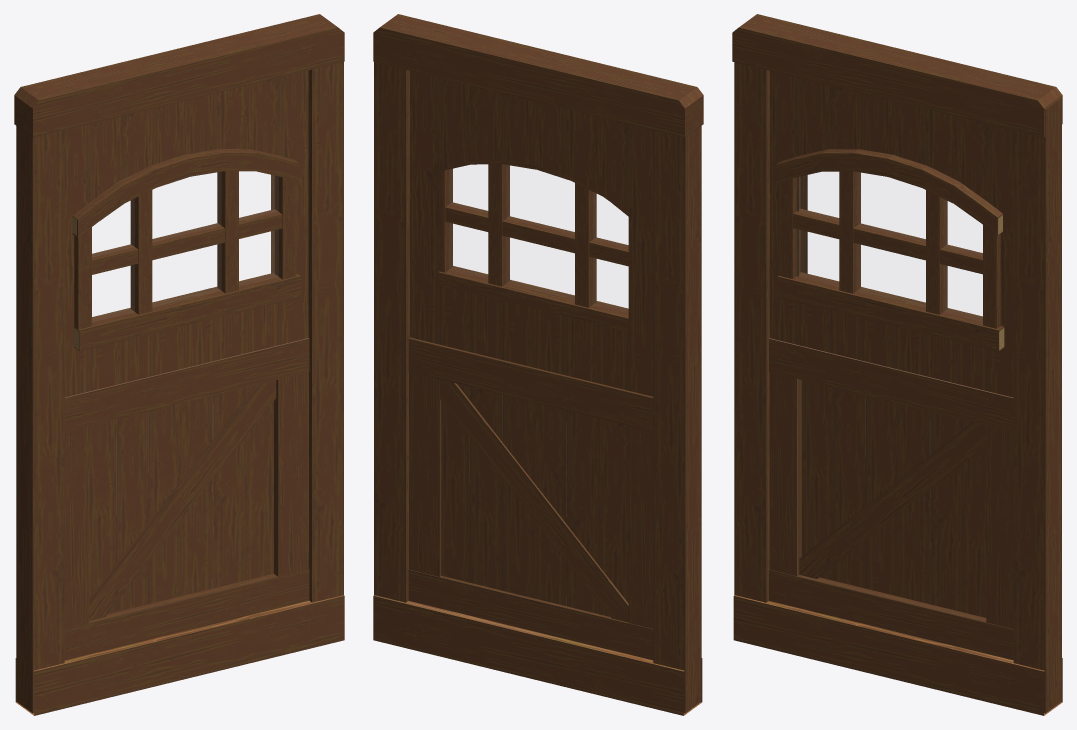
Rendered from Door_1_Flat.gltf.
The picture shows the model from 3 angles, left to right: view 1: azimuth 30°, elevation 25°; view 2: azimuth 150°, elevation 25°; view 3: azimuth 330°, elevation 25°; orthographic projection.
Visible parts, largest first — view 1: Door_1_Flat; view 2: Door_1_Flat; view 3: Door_1_Flat.
Part boxes in pixels (x1,y1,x2,y2): Door_1_Flat: [14, 14, 344, 715]; Door_1_Flat: [373, 14, 703, 715]; Door_1_Flat: [732, 14, 1062, 715].
Size of the model in its own units: 1.12 by 2.1 by 0.1207.
2 materials, 1 textured.
